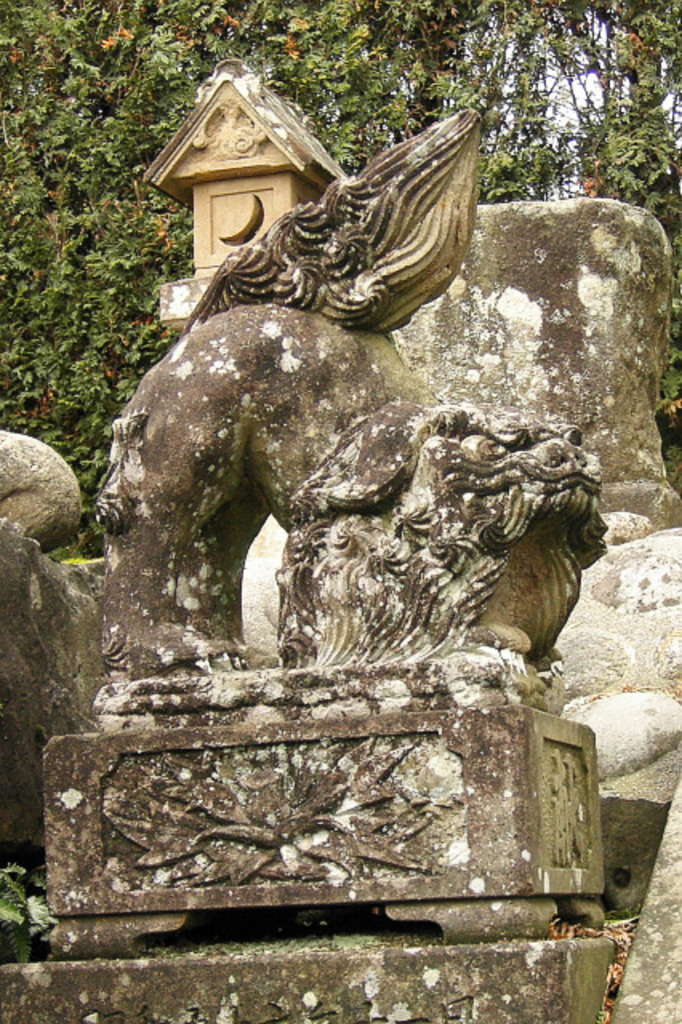Tree: (0, 0, 682, 575)
